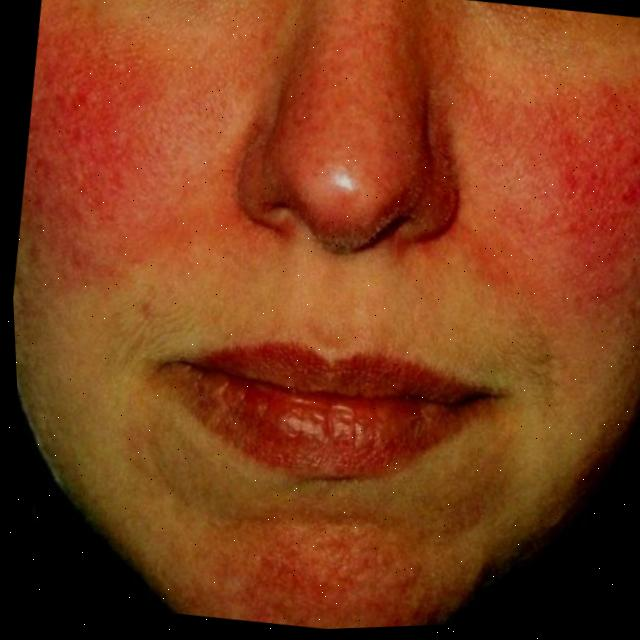Rosacea: (4, 0, 269, 304), (228, 0, 484, 253), (441, 47, 640, 332), (176, 484, 455, 634)
